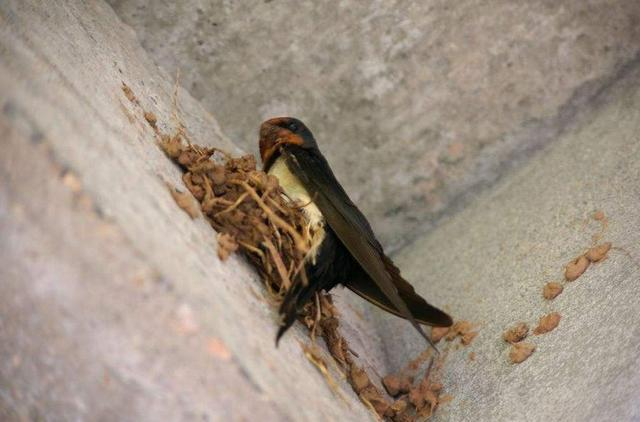bird-nest: (159, 115, 454, 334)
